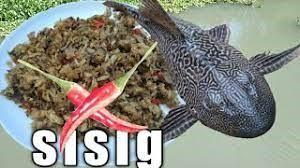Janitor Fish: (104, 0, 300, 143)
